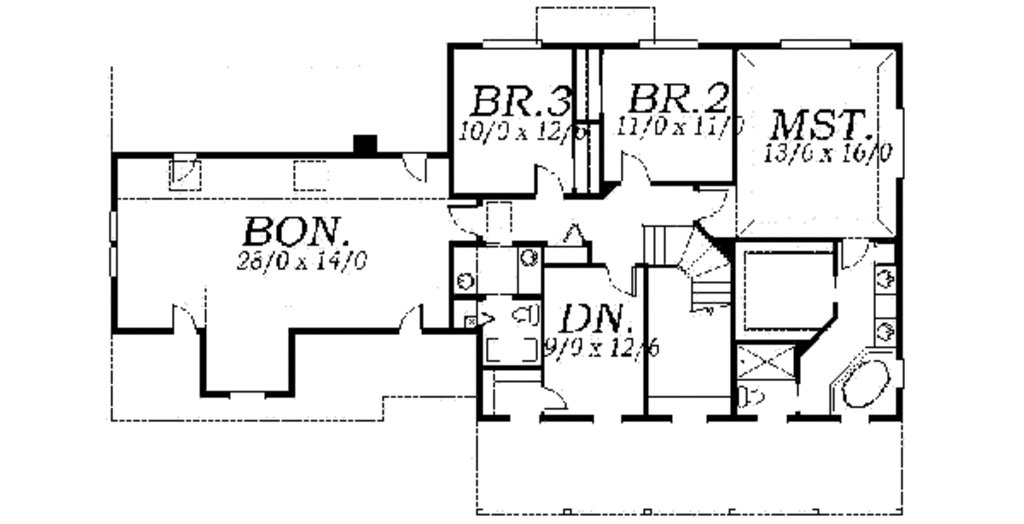door: (447, 201, 485, 242), (531, 164, 568, 205), (618, 146, 651, 188), (602, 263, 640, 295), (167, 303, 204, 335), (400, 304, 426, 338), (542, 384, 567, 416)
large_sink: (507, 301, 543, 330), (734, 381, 763, 412)
small_sink: (871, 260, 898, 351), (449, 242, 479, 295), (517, 248, 539, 298)
stairs: (639, 218, 732, 317)
tub: (829, 350, 898, 414)
window: (774, 36, 859, 55), (104, 207, 123, 281), (634, 36, 703, 56), (478, 37, 550, 56)
